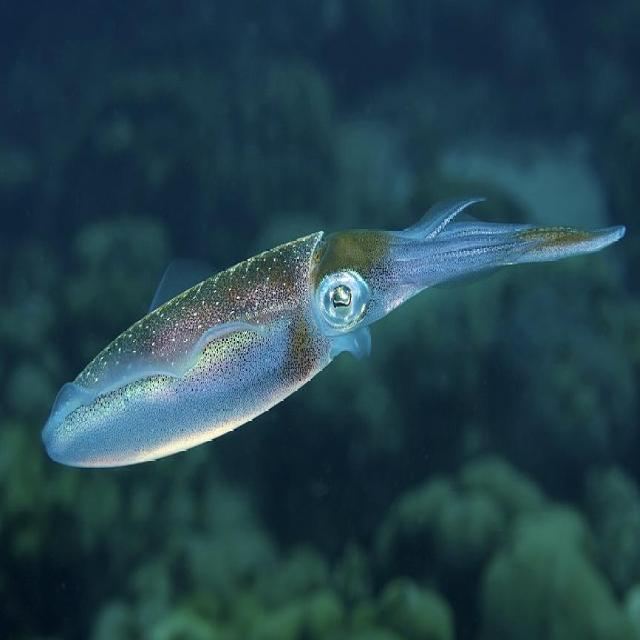SQUID: (0, 159, 640, 494)
